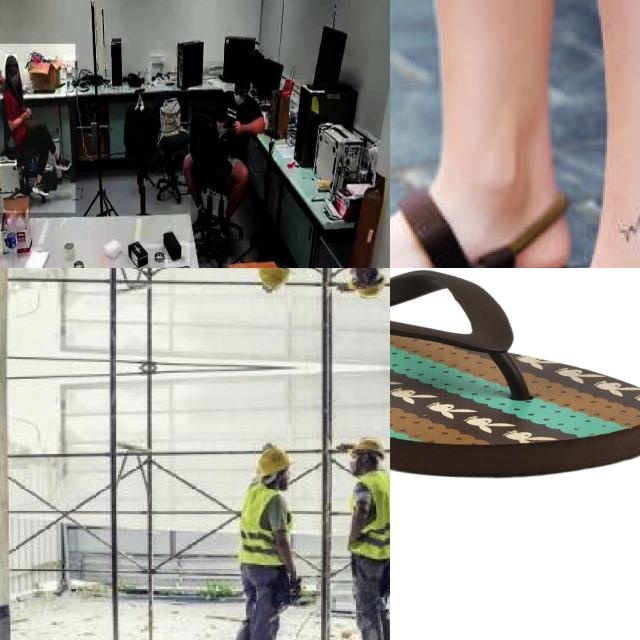Sandals: (390, 268, 640, 479), (390, 166, 569, 268)
face_mask: (234, 80, 246, 112)
face_nomask: (10, 70, 20, 88)
hand_noglove: (224, 117, 236, 139), (229, 119, 241, 137), (20, 110, 32, 120), (24, 104, 32, 115)
head_helmet: (252, 444, 292, 476), (348, 434, 388, 459)
head_nohelmet: (234, 65, 250, 80), (5, 55, 17, 65)
person: (218, 442, 306, 640), (191, 61, 273, 243), (0, 43, 76, 213), (340, 437, 390, 640)
shoes: (52, 148, 72, 174), (31, 177, 50, 198)
vest: (240, 483, 294, 568), (350, 470, 390, 562)
